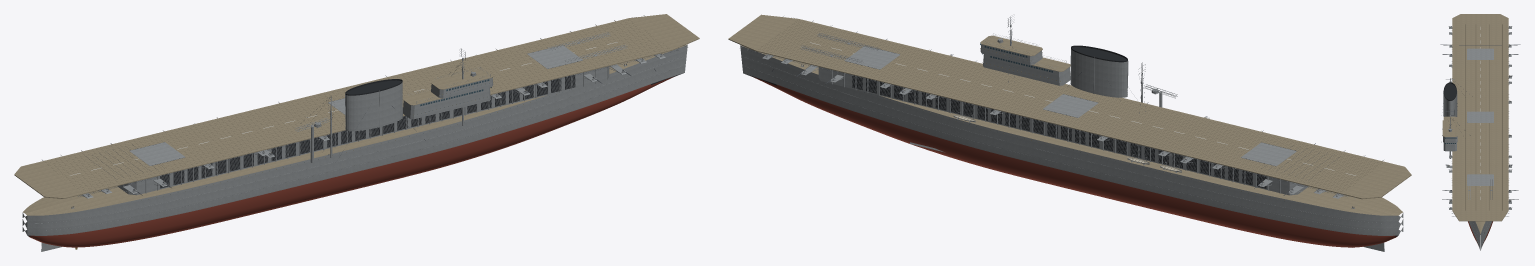
Rendered from demo-yorktown.glb.
The picture shows the model from 3 angles, left to right: view 1: azimuth 30°, elevation 25°; view 2: azimuth 150°, elevation 25°; view 3: azimuth 270°, elevation 25°; orthographic projection. The views are drawn at different scales.
Parts seen in each view (by area): view 1: USS Yorktown (CV-5), Midway1942; view 2: USS Yorktown (CV-5), Midway1942; view 3: USS Yorktown (CV-5), Midway1942.
Boxes of the visible parts, <box> form: USS Yorktown (CV-5), Midway1942: <box>14,14,699,251</box>; USS Yorktown (CV-5), Midway1942: <box>728,14,1411,251</box>; USS Yorktown (CV-5), Midway1942: <box>1440,14,1520,250</box>.
Bounding box in the file's own units: 247 × 44.05 × 39.92.
9 materials, 2 textured.
